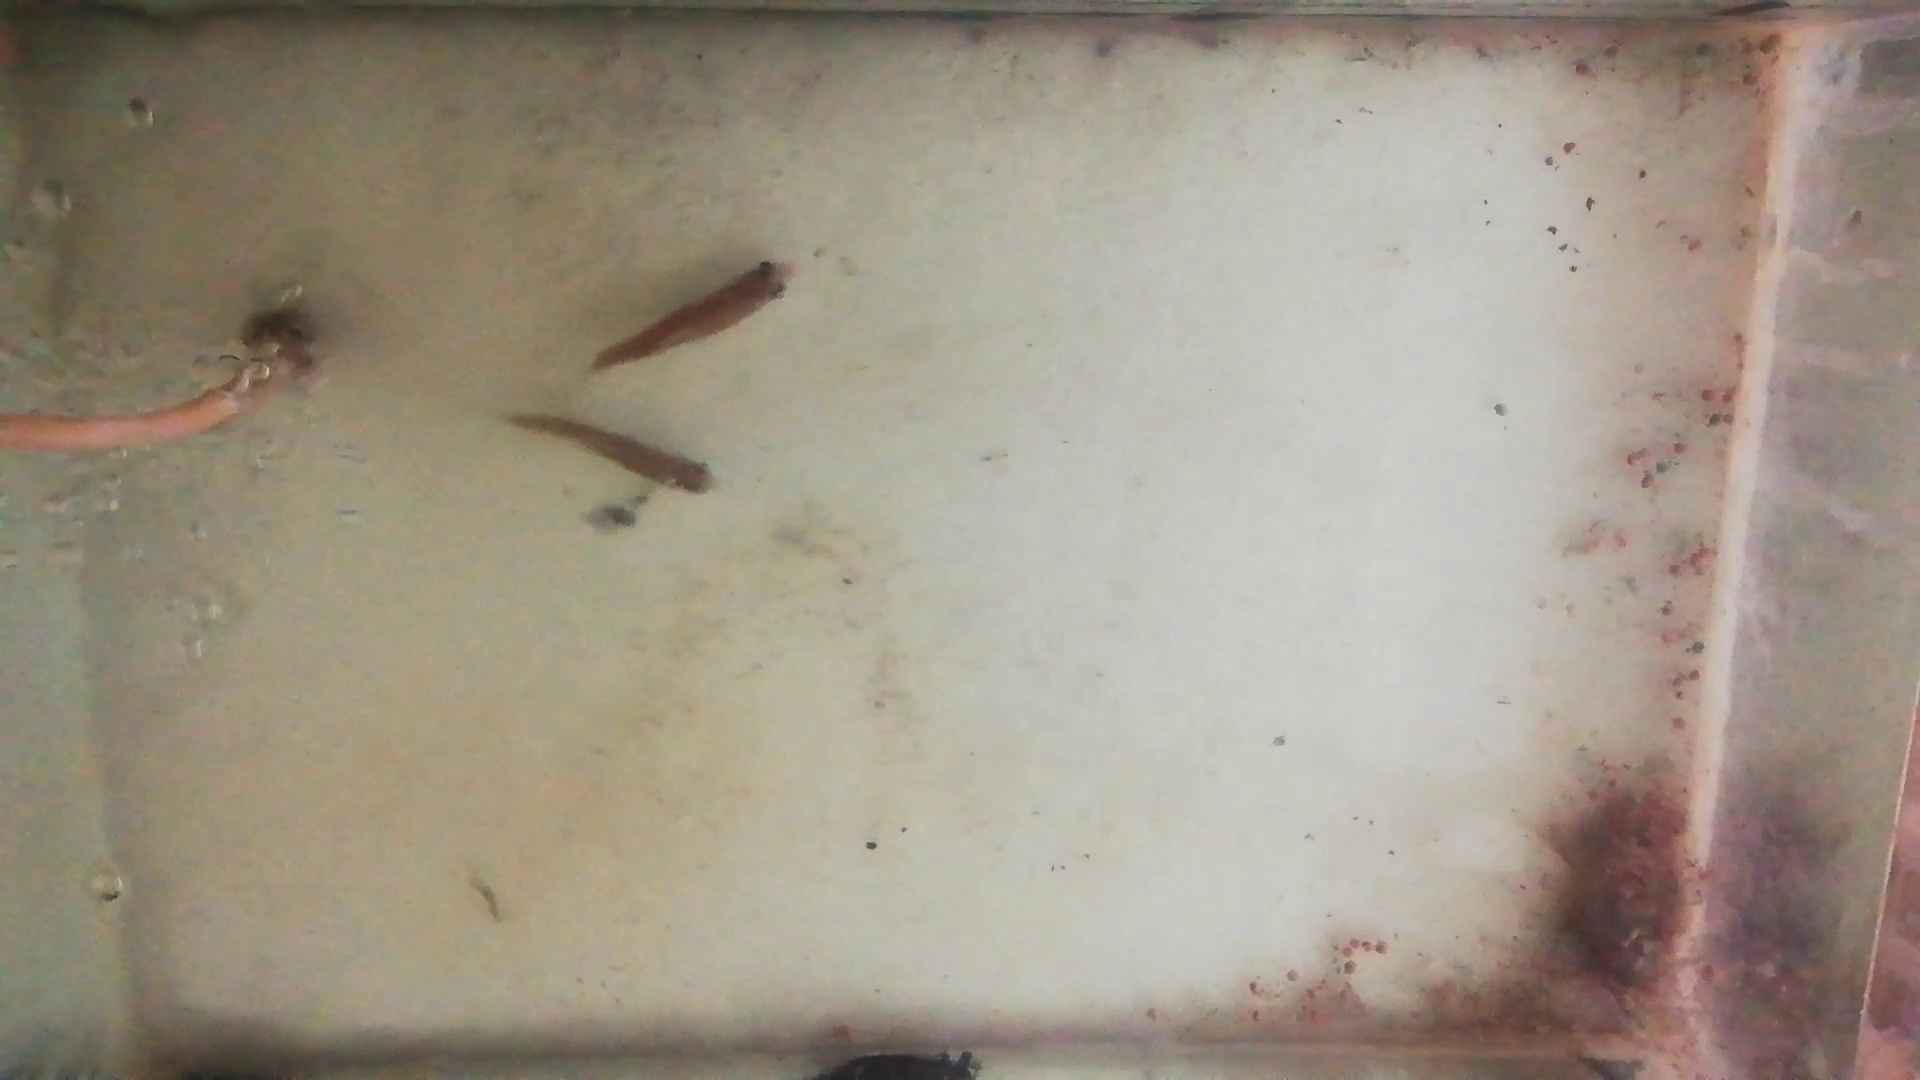fish: (583, 258, 798, 376), (502, 407, 725, 501)
